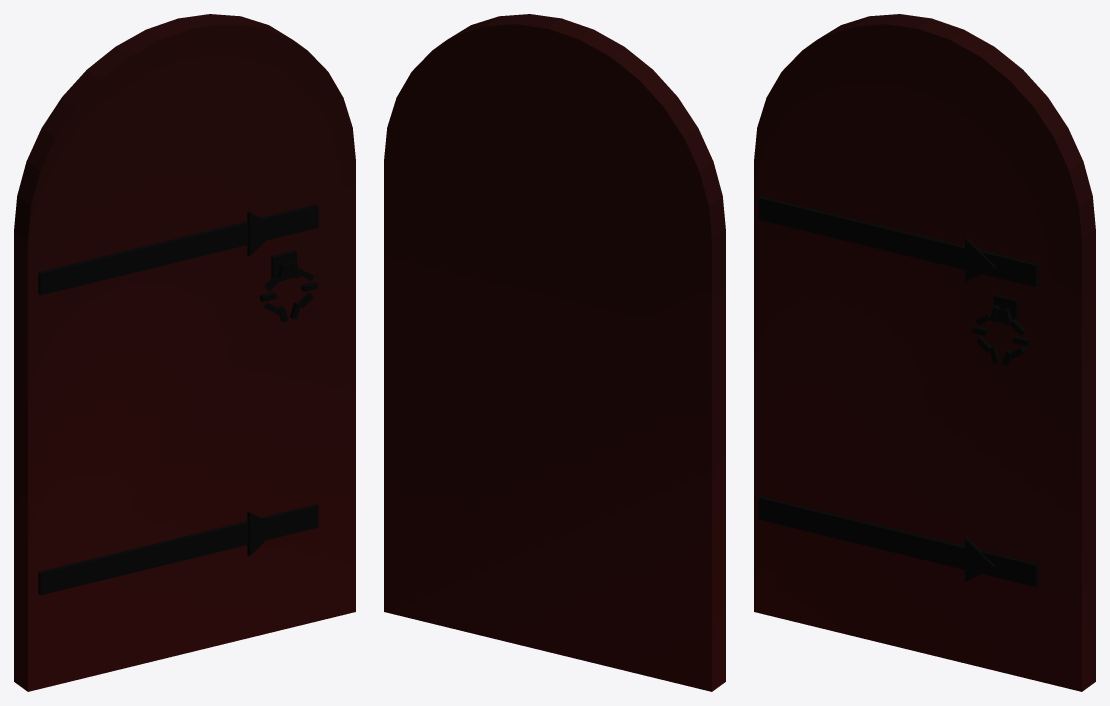
The model's file is SilverbrookCottage3_Door1.fbx.
3 views of the same model, side by side, from view 1: azimuth 30°, elevation 25°; view 2: azimuth 150°, elevation 25°; view 3: azimuth 330°, elevation 25° (orthographic).
Parts seen in each view (by area): view 1: SM_SBCottage3_Door1_Part; view 2: SM_SBCottage3_Door1_Part; view 3: SM_SBCottage3_Door1_Part.
Boxes of the visible parts, x1,y1,x2,y2 form: SM_SBCottage3_Door1_Part: (14, 14, 355, 691); SM_SBCottage3_Door1_Part: (384, 14, 725, 691); SM_SBCottage3_Door1_Part: (754, 14, 1095, 691).
Bounding box in the file's own units: 95 × 173 × 11.2.
